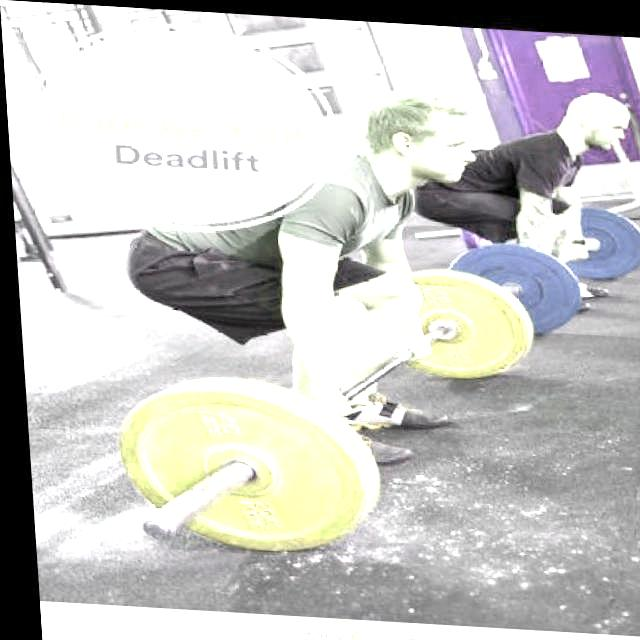barbell: (106, 374, 367, 552)
